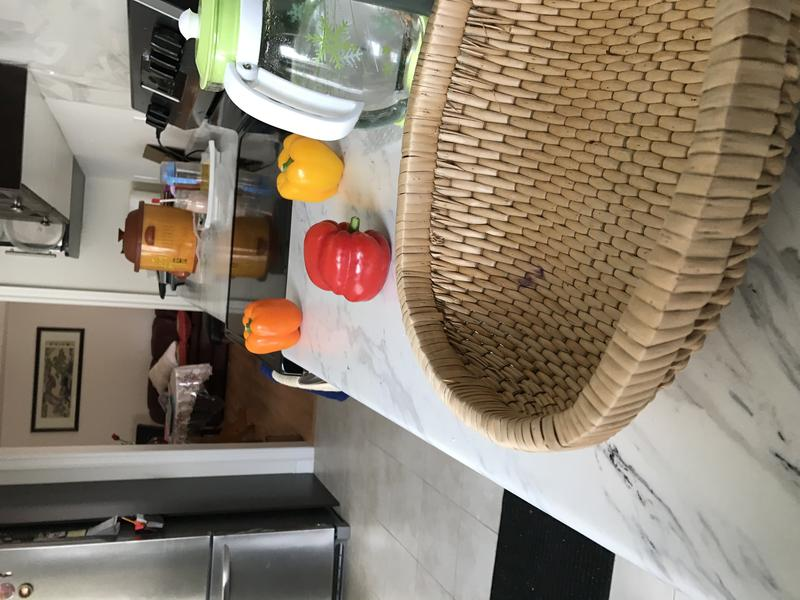orange_pepper: (236, 294, 307, 357)
red_pepper: (297, 212, 397, 309)
yellow_pepper: (267, 130, 351, 205)
